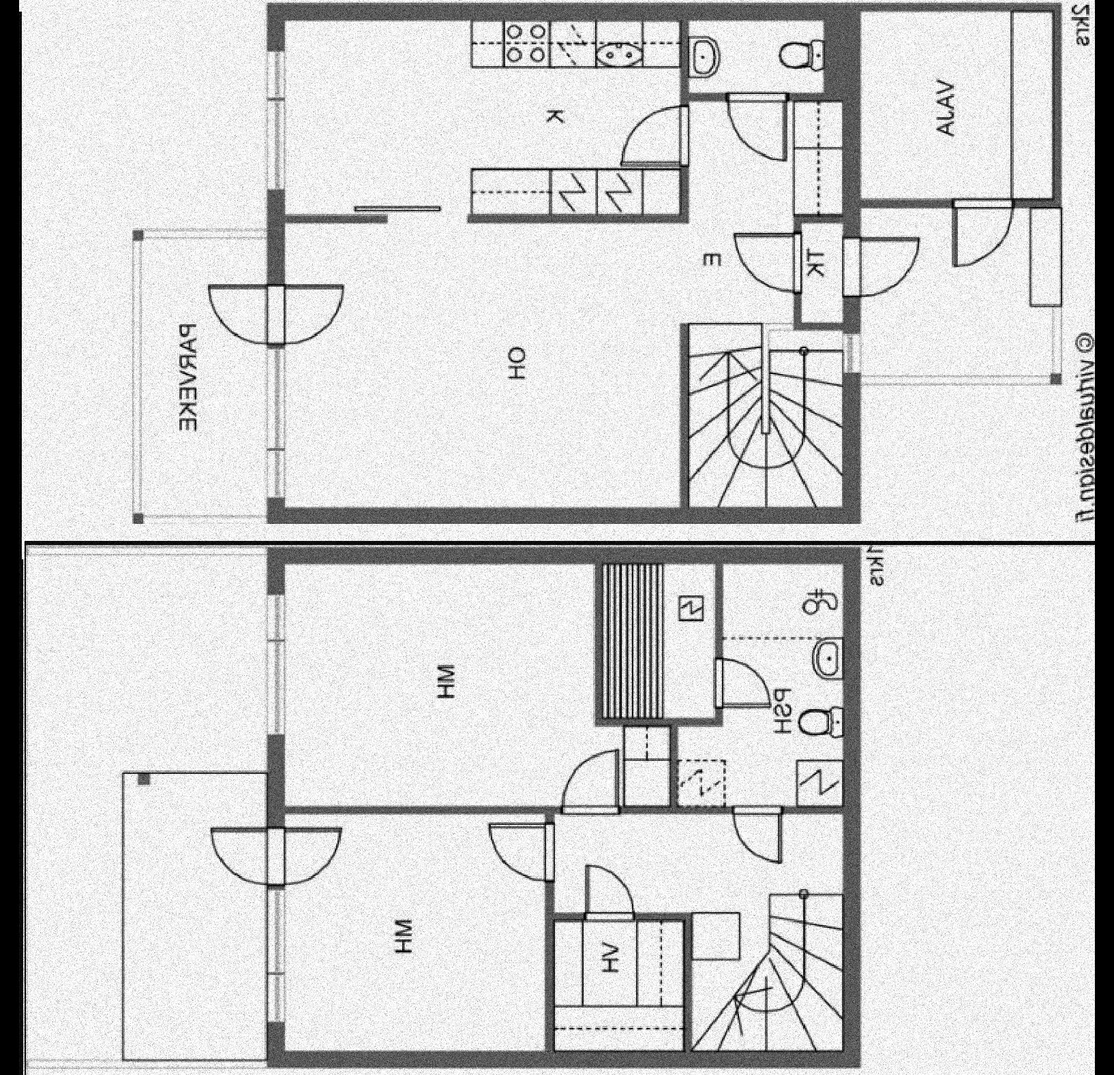door: (209, 820, 345, 888), (211, 278, 346, 345), (845, 233, 922, 300), (622, 104, 692, 167), (727, 91, 787, 163), (950, 198, 1009, 270), (487, 822, 554, 882), (562, 749, 620, 815), (733, 234, 794, 291), (716, 659, 777, 706), (588, 864, 633, 925), (733, 806, 781, 863)
window: (265, 888, 288, 1020), (267, 54, 287, 191), (267, 349, 285, 495), (267, 594, 285, 734), (843, 334, 862, 370)
zone: (287, 22, 843, 505), (25, 547, 268, 1058), (282, 559, 666, 809), (552, 811, 845, 1048), (286, 816, 542, 1051), (123, 775, 261, 1058), (680, 564, 841, 804), (139, 237, 265, 516), (859, 15, 1051, 196), (862, 206, 1051, 373), (603, 563, 716, 720), (554, 923, 682, 1049), (690, 22, 825, 94), (801, 223, 843, 322)
